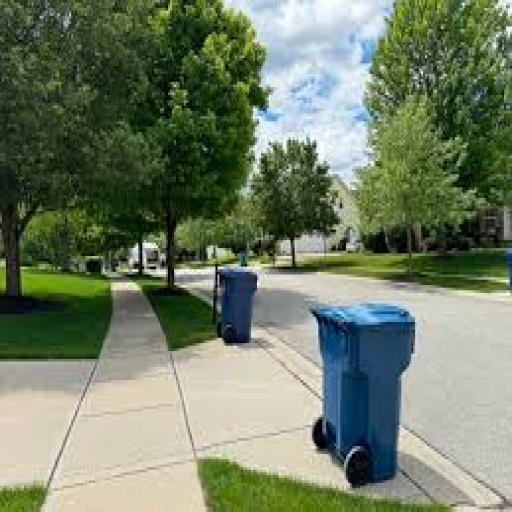poubelle_vide: (280, 285, 445, 498), (183, 241, 274, 350)
